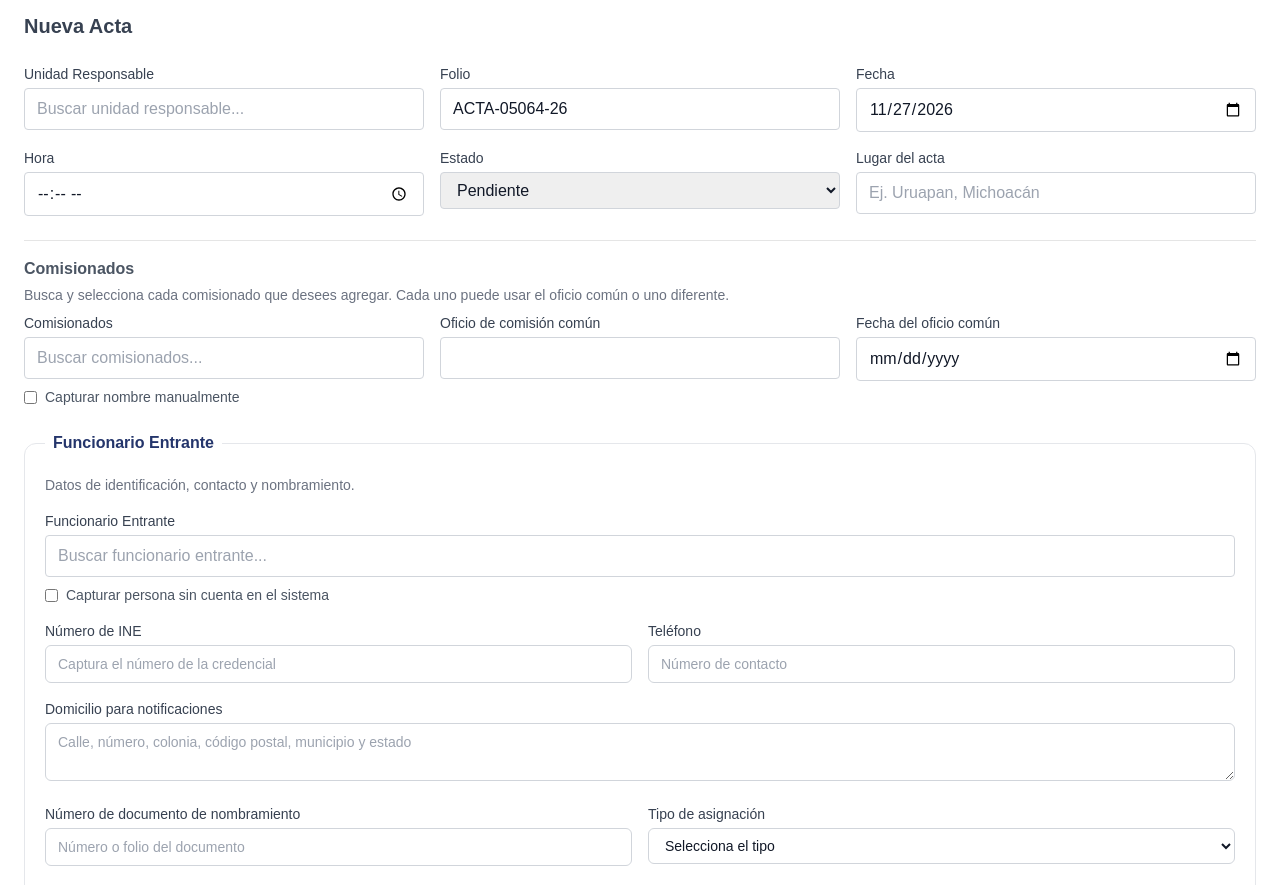
impide enviar texto libre sin seleccionar resultados
The width and height of the screenshot is (1280, 885).
Type "Inventada" into the dropdown labelled "Unidad Responsable" at (224, 109), box [24, 88, 424, 130]
(page scrolled)
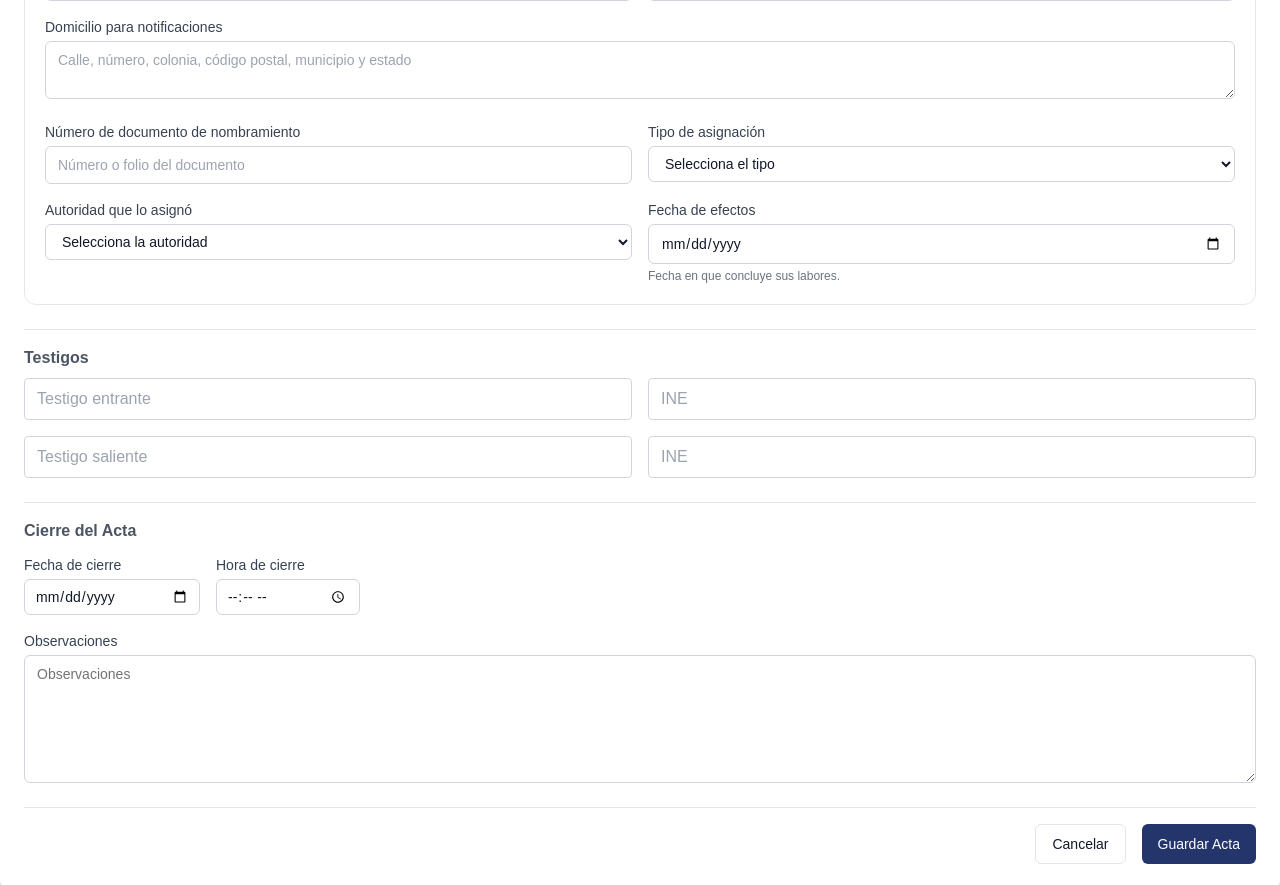
Click the button "Guardar Acta" at (1199, 844), box [1142, 824, 1256, 864]
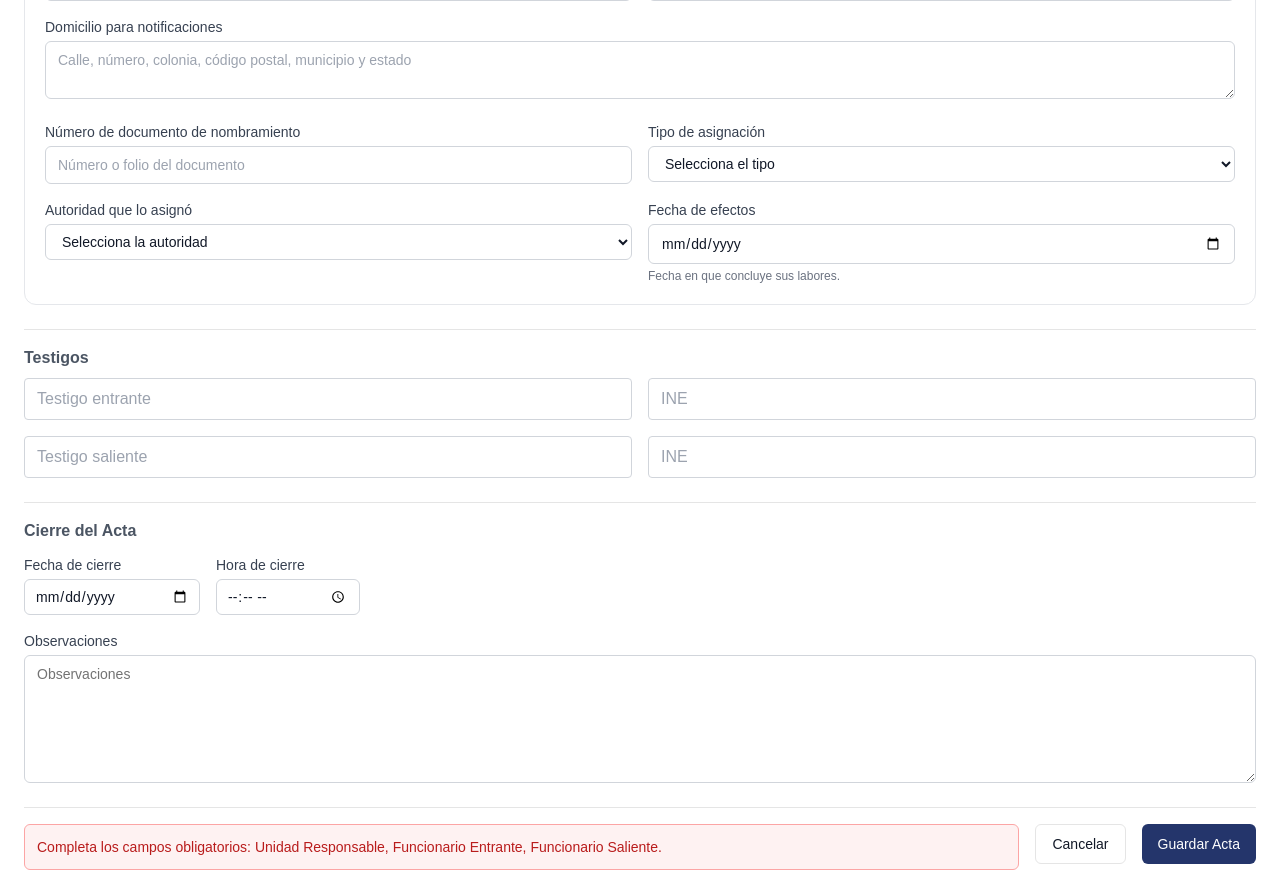
Expected: the button "Cancelar" is shown, [1036, 824, 1126, 864]
Expected: the message shows "Completa los campos obligatorios: Unidad Responsable, Funcionario Entrante, Funcionario Saliente.", [37, 839, 662, 855]
